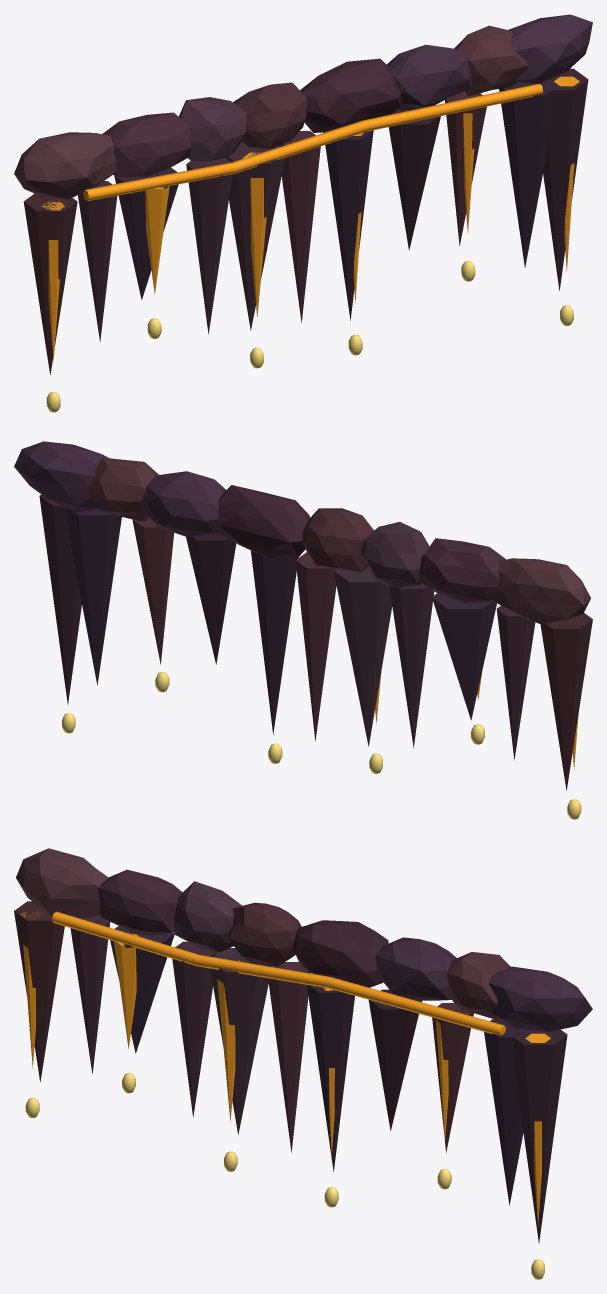
Rendered from overlay_1.fbx.
3 views of the same model, one above another, from view 1: azimuth 30°, elevation 25°; view 2: azimuth 150°, elevation 25°; view 3: azimuth 330°, elevation 25° (orthographic).
Visible parts, largest first — view 1: overlay_1; view 2: overlay_1; view 3: overlay_1.
Boxes of the visible parts, bbox=[...] form: overlay_1: bbox=[14, 14, 592, 412]; overlay_1: bbox=[14, 441, 592, 819]; overlay_1: bbox=[14, 848, 592, 1279].
Bounding box in the file's own units: 3.94 × 1.99 × 0.4424.
